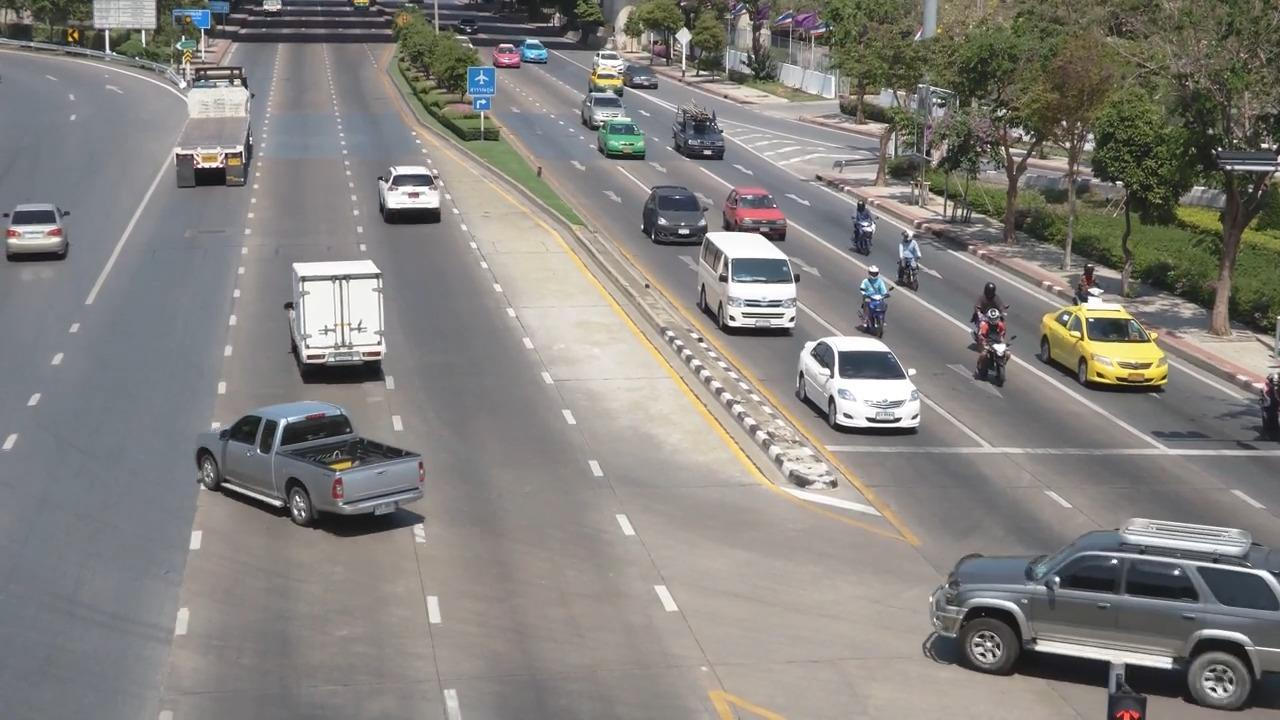CAR: (914, 509, 1280, 720), (190, 393, 441, 552), (270, 248, 402, 381), (794, 317, 922, 434), (1054, 297, 1174, 397), (700, 230, 802, 340), (0, 189, 75, 285), (373, 160, 455, 237), (636, 175, 710, 249), (710, 181, 789, 241), (667, 105, 724, 157), (594, 121, 645, 164), (581, 45, 632, 79), (582, 86, 629, 122), (522, 33, 556, 70), (491, 42, 524, 74)
HGV_BUS: (158, 56, 270, 199)
MOTOR: (961, 307, 1023, 384), (852, 260, 896, 328), (886, 231, 928, 288), (1074, 252, 1112, 313), (845, 193, 880, 251)
